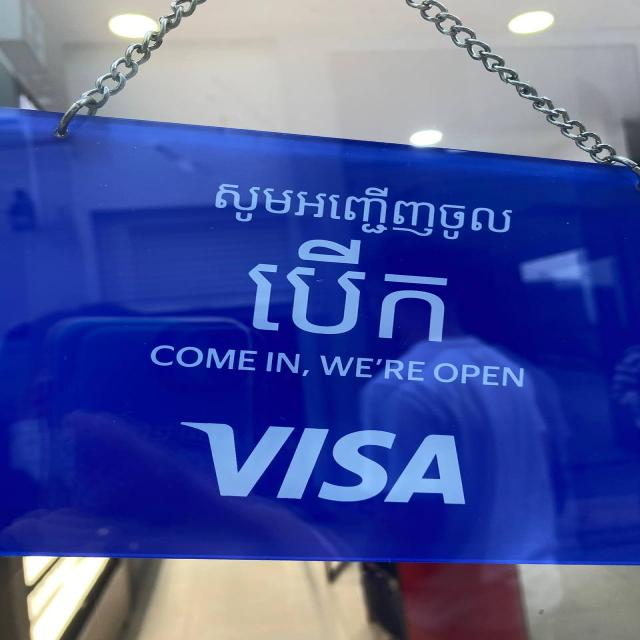Yolov11_80vkh: (232, 230, 476, 360), (204, 162, 525, 250)
